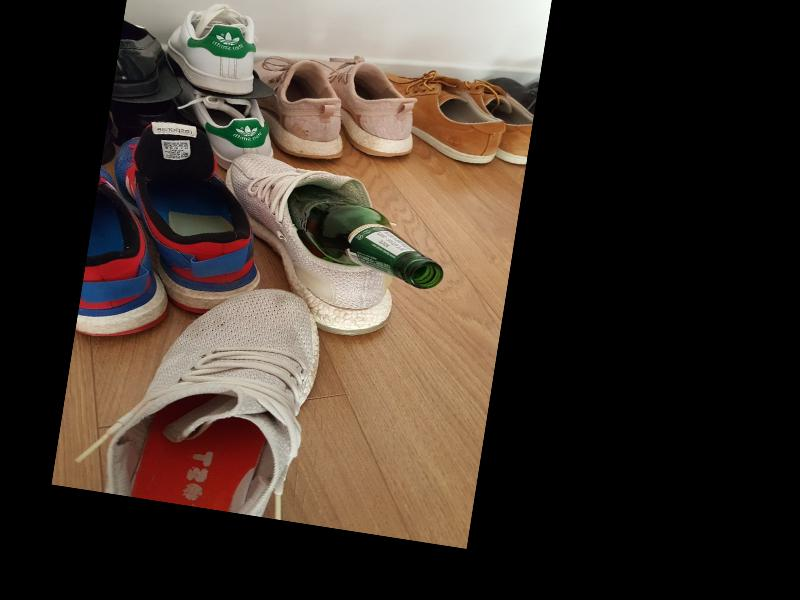Beer: (276, 178, 454, 291)
